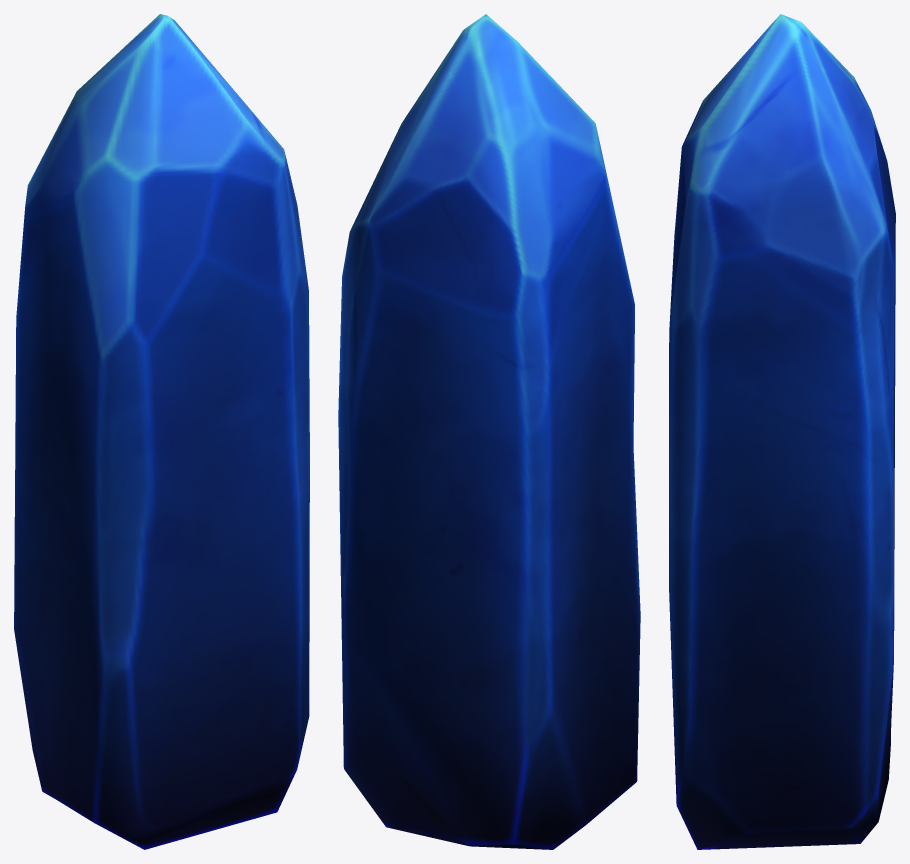
Rendered from SM_Gem_Sapphire_005.fbx.
3 renders of one model, left to right at view 1: azimuth 30°, elevation 25°; view 2: azimuth 150°, elevation 25°; view 3: azimuth 270°, elevation 25°, orthographic. The views are drawn at different scales.
Visible parts, largest first — view 1: SM_Gem_Sapphire_005; view 2: SM_Gem_Sapphire_005; view 3: SM_Gem_Sapphire_005.
Part boxes in pixels (x1,y1,x2,y2): SM_Gem_Sapphire_005: (14,14,309,849); SM_Gem_Sapphire_005: (338,14,640,849); SM_Gem_Sapphire_005: (669,14,895,849).
Size of the model in its own units: 15.59 by 54.66 by 13.99.
